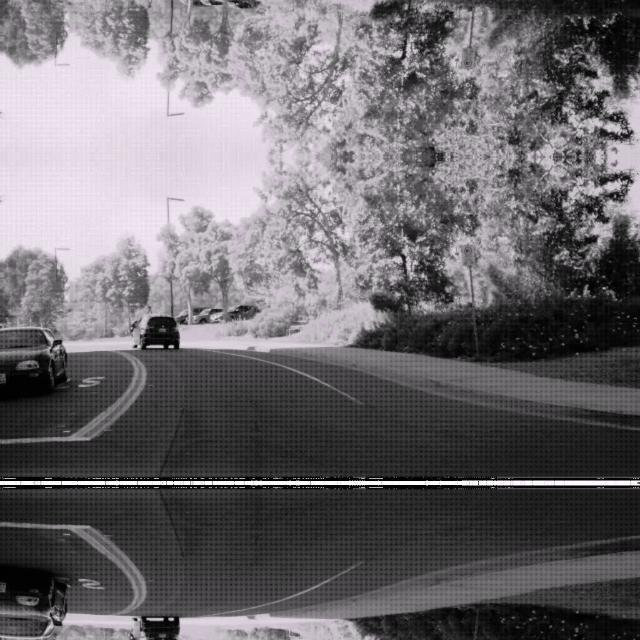pedestrianCrossing: (140, 298, 156, 316), (139, 0, 157, 14)
